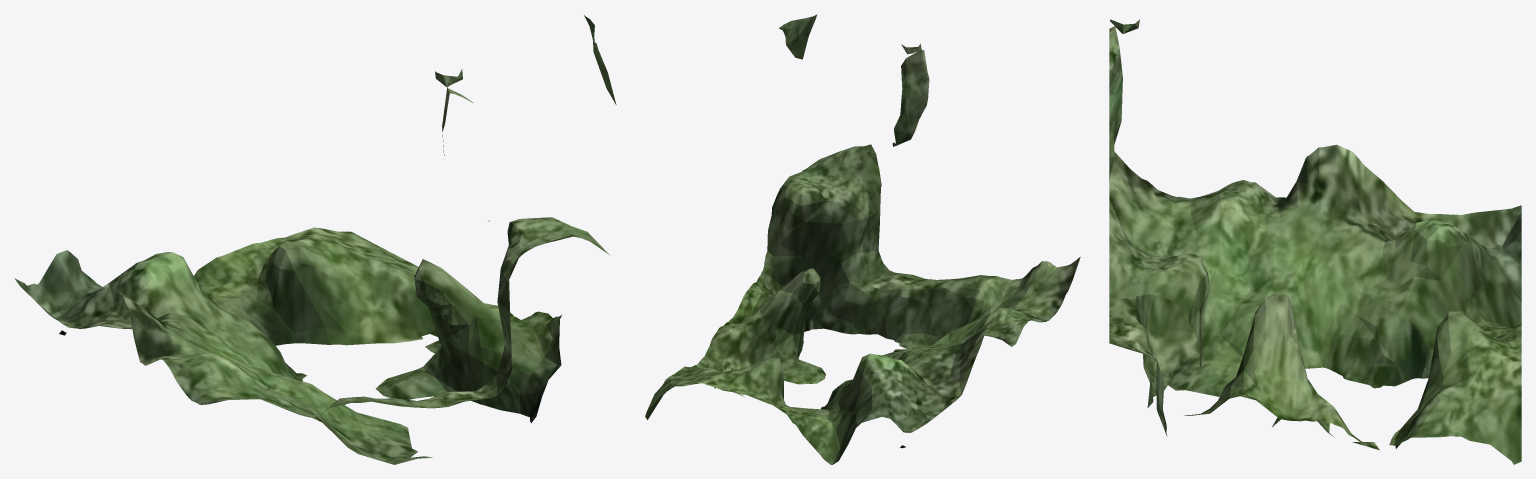
3 views of the same model, side by side, from view 1: azimuth 30°, elevation 25°; view 2: azimuth 150°, elevation 25°; view 3: azimuth 270°, elevation 25° (orthographic). The views are drawn at different scales.
Size of the model in its own units: 2.95 by 2.95 by 2.95.
4 materials, 4 textured.
